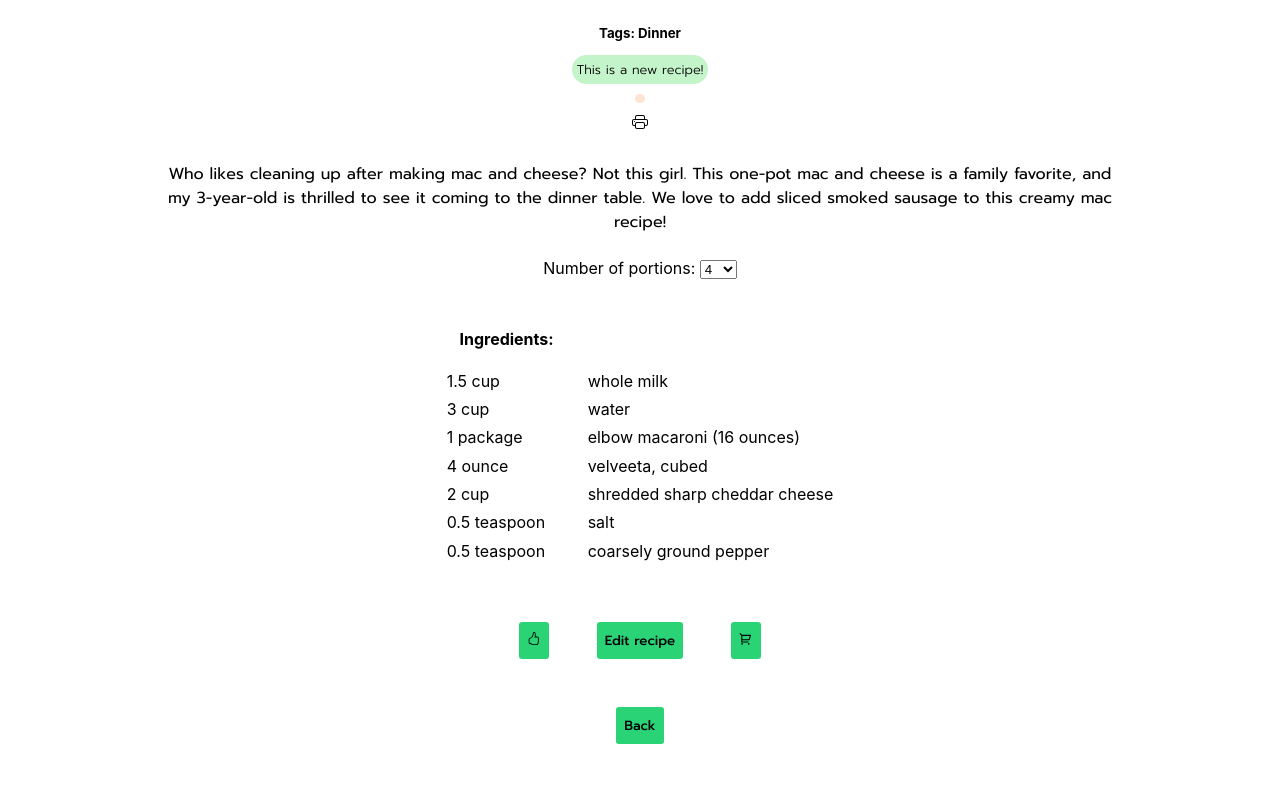
DisplayOne page tests › Like recipe
(page scrolled)
Check: the heading with class "Recipe-popular" is empty, box [635,94,645,103]
click on popular icon (firing event using react test library)
Click the button titled "Like the recipe".
click(534, 640)  # box [519,622,549,659]
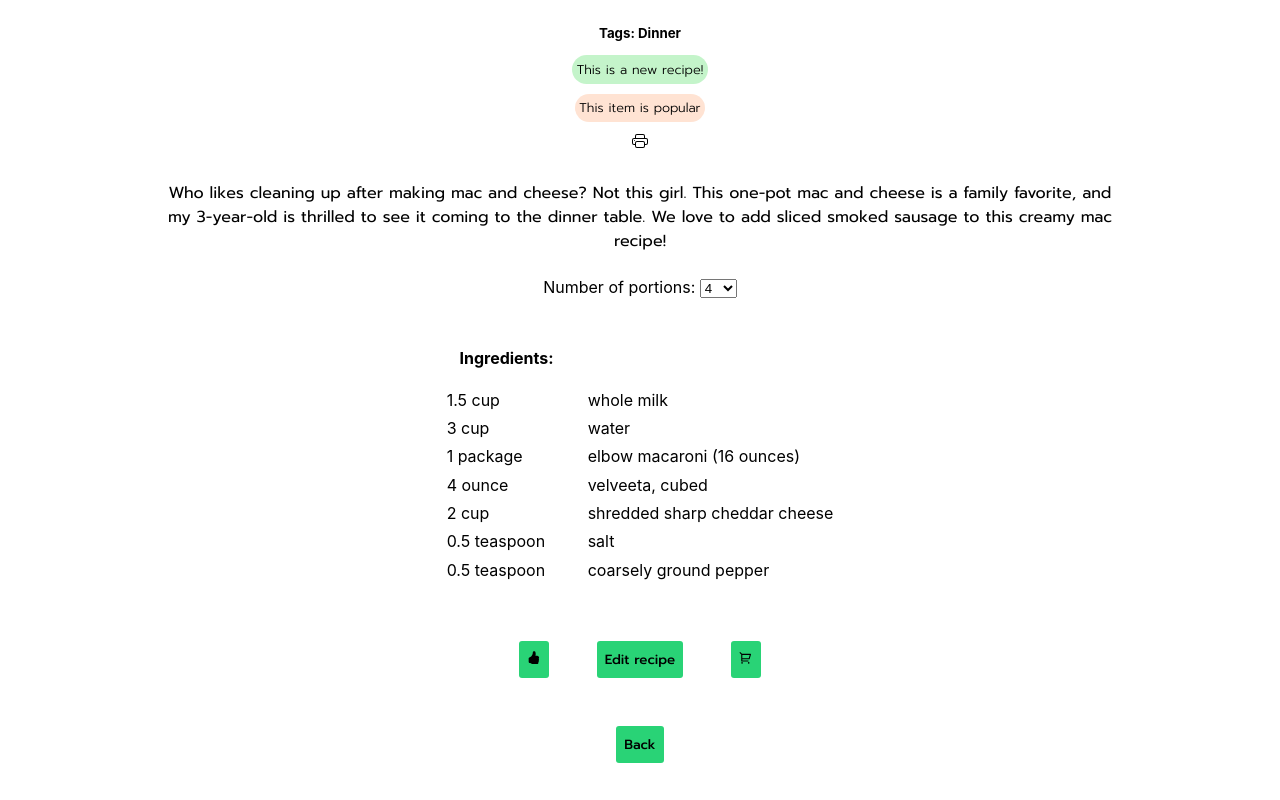
Check: the heading with class "Recipe-popular" reads "This item is popular", box [579,98,701,117]
